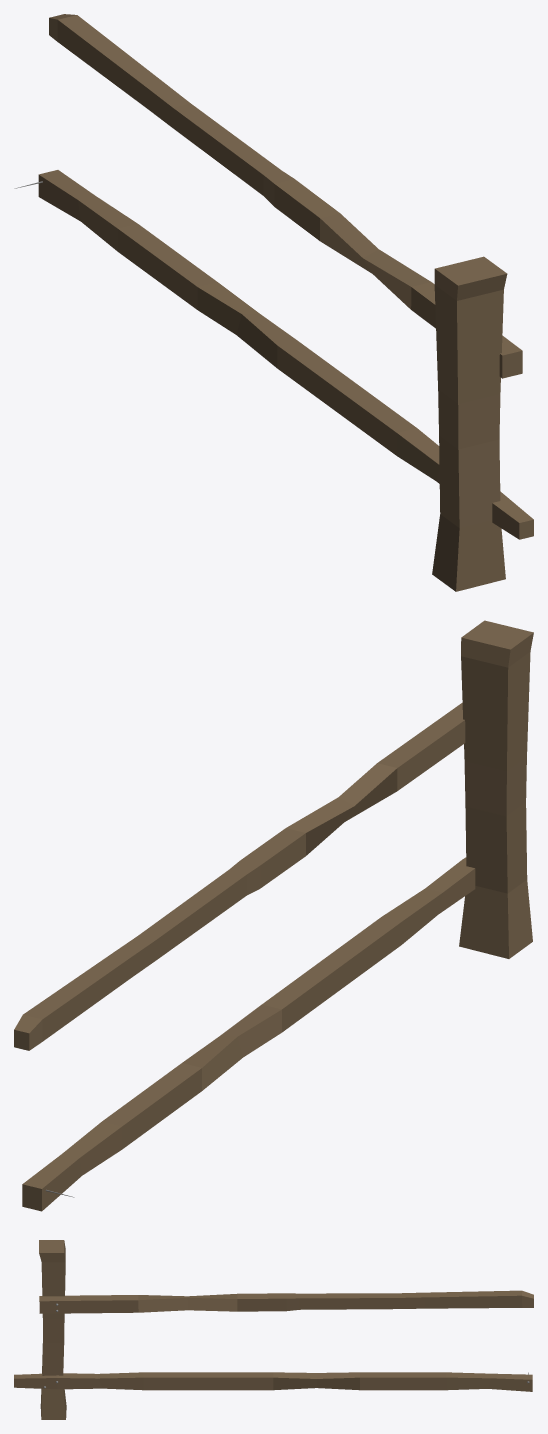
File: Fance_3.fbx
3 views of the same model, one above another, from view 1: azimuth 30°, elevation 25°; view 2: azimuth 150°, elevation 25°; view 3: azimuth 270°, elevation 25° (orthographic). The views are drawn at different scales.
Parts seen in each view (by area): view 1: fance_3; view 2: fance_3; view 3: fance_3.
Part boxes in pixels (bbox=[...]): fance_3: bbox=[14, 14, 533, 591]; fance_3: bbox=[14, 620, 533, 1211]; fance_3: bbox=[14, 1240, 533, 1419].
Bounding box in the file's own units: 18.57 × 79.58 × 225.
